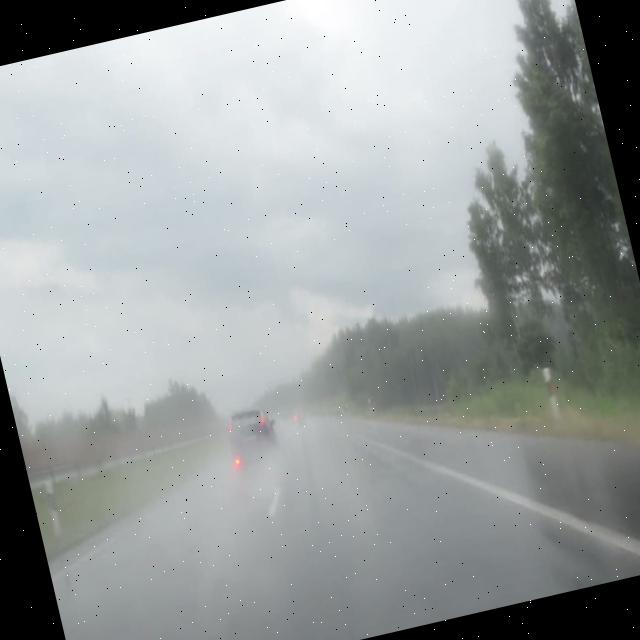car: (223, 406, 284, 477), (289, 403, 308, 427)
